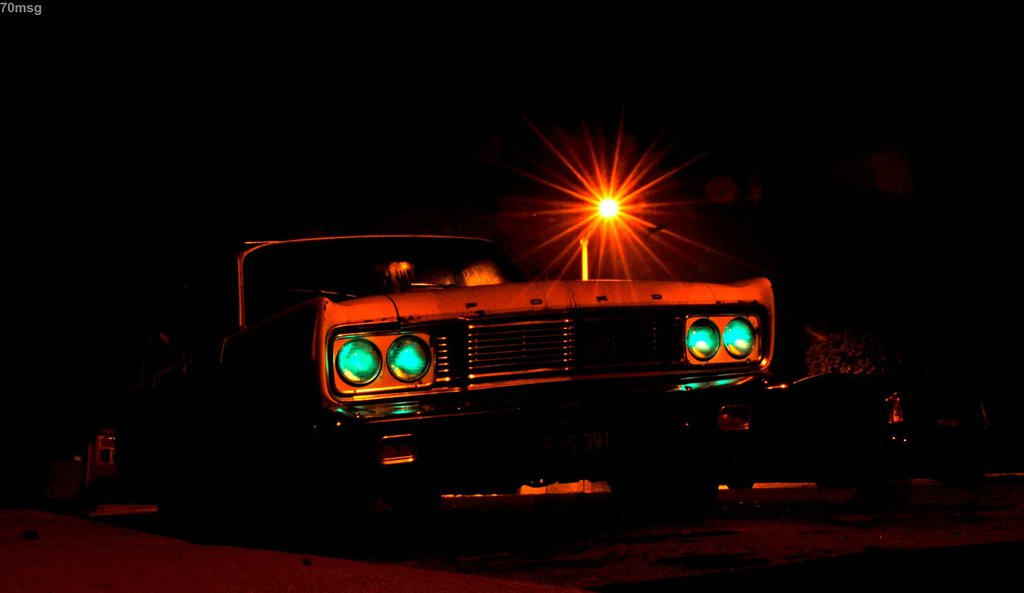car: (129, 210, 789, 556)
